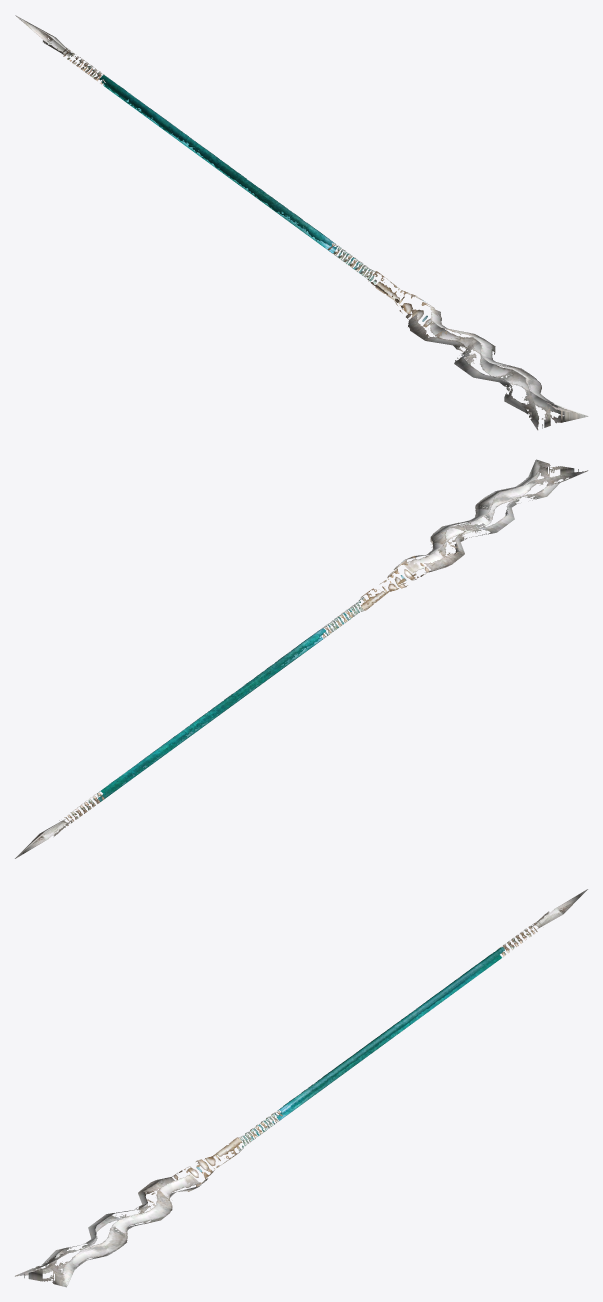
Rendered from spear_03.glb.
3 renders of one model, top to bottom at view 1: azimuth 30°, elevation 25°; view 2: azimuth 150°, elevation 25°; view 3: azimuth 330°, elevation 25°, orthographic. The views are drawn at different scales.
Parts seen in each view (by area): view 1: spear_03; view 2: spear_03; view 3: spear_03.
Boxes of the visible parts, bbox=[...] form: spear_03: bbox=[15, 15, 588, 430]; spear_03: bbox=[15, 459, 588, 858]; spear_03: bbox=[15, 889, 587, 1287].
Size of the model in its own units: 0.3235 by 0.0693 by 2.5.
1 material, 1 textured.
